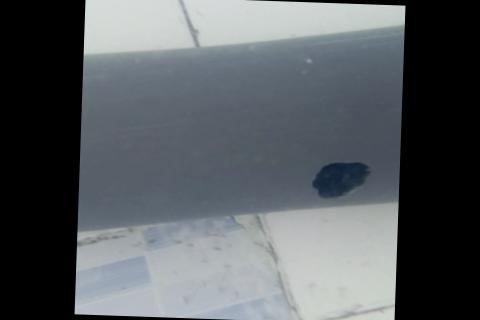kebocoran: (310, 157, 373, 199)
